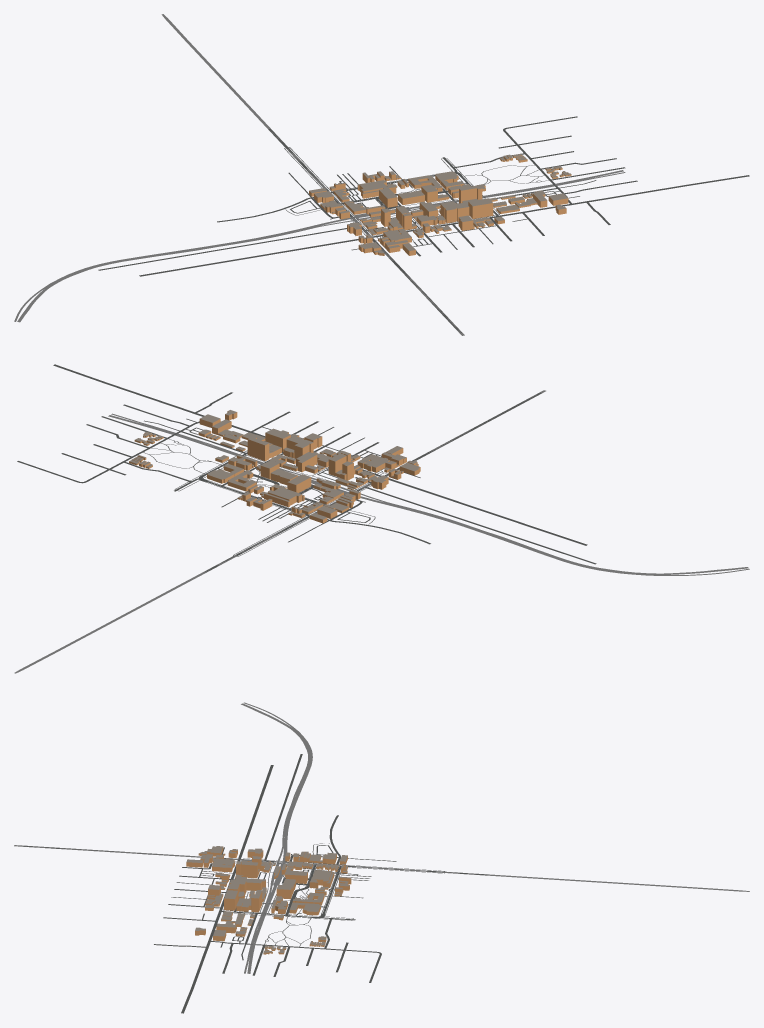
Rendered from sm_swinburne.fbx.
3 renders of one model, top to bottom at view 1: azimuth 30°, elevation 25°; view 2: azimuth 150°, elevation 25°; view 3: azimuth 270°, elevation 25°, orthographic. The views are drawn at different scales.
Visible parts, largest first — view 1: map_3.osm_buildings, map_3.osm_railways, map_3.osm_roads_residential, map_3.osm_roads_primary, map_3.osm_paths_footway, map_3.osm_roads_service; view 2: map_3.osm_buildings, map_3.osm_railways, map_3.osm_roads_residential, map_3.osm_paths_footway, map_3.osm_roads_primary, map_3.osm_roads_service, map_3.osm_roads_secondary; view 3: map_3.osm_buildings, map_3.osm_railways, map_3.osm_roads_residential, map_3.osm_paths_footway, map_3.osm_roads_primary, map_3.osm_roads_service.
Part boxes in pixels (bbox=[...]): map_3.osm_buildings: bbox=[309, 153, 571, 255]; map_3.osm_railways: bbox=[14, 14, 625, 335]; map_3.osm_roads_residential: bbox=[98, 116, 637, 270]; map_3.osm_roads_primary: bbox=[139, 175, 749, 276]; map_3.osm_paths_footway: bbox=[284, 147, 548, 242]; map_3.osm_roads_service: bbox=[288, 166, 596, 250]; map_3.osm_buildings: bbox=[129, 410, 420, 523]; map_3.osm_railways: bbox=[14, 390, 749, 673]; map_3.osm_roads_residential: bbox=[17, 392, 596, 564]; map_3.osm_paths_footway: bbox=[143, 439, 387, 556]; map_3.osm_roads_primary: bbox=[53, 364, 587, 545]; map_3.osm_roads_service: bbox=[144, 418, 420, 542]; map_3.osm_roads_secondary: bbox=[204, 392, 541, 572]; map_3.osm_buildings: bbox=[186, 846, 351, 954]; map_3.osm_railways: bbox=[14, 702, 749, 973]; map_3.osm_roads_residential: bbox=[154, 754, 381, 982]; map_3.osm_paths_footway: bbox=[211, 843, 444, 946]; map_3.osm_roads_primary: bbox=[181, 765, 273, 1013]; map_3.osm_roads_service: bbox=[171, 845, 396, 960].
Bounding box in the file's own units: 114716 × 2400 × 114689.
